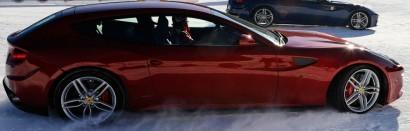backlight: (0, 42, 50, 73)
side_glass: (78, 5, 263, 54)
